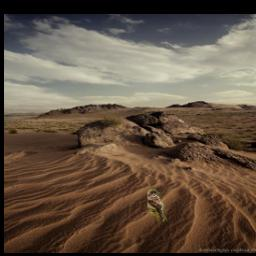Sparrow: (147, 190, 167, 222)
